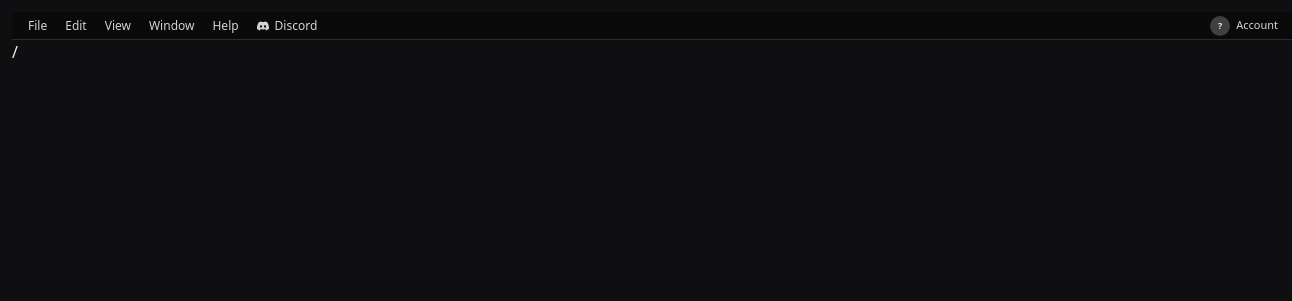
Scenario: MenuBar › export is disabled with no project open
Click the button "File" at {"x": 38, "y": 26}, box top-left (20, 14), bottom-right (55, 36)
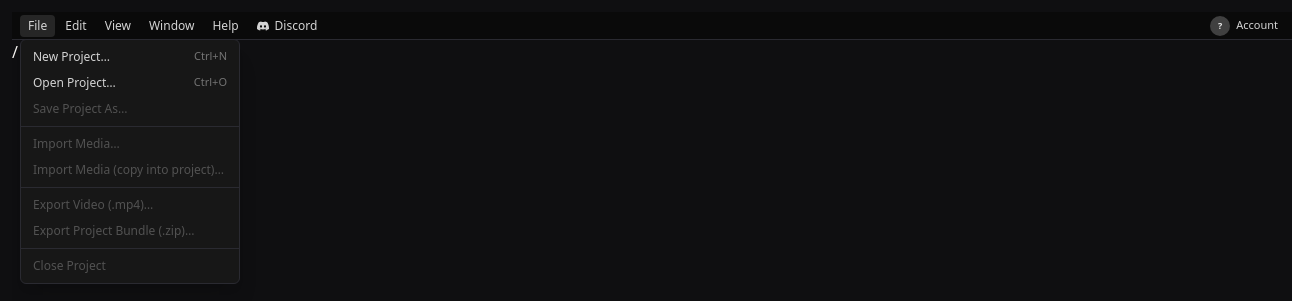
Expected: the button "Export Video (.mp4)…" is disabled, top-left (21, 192), bottom-right (239, 218)
